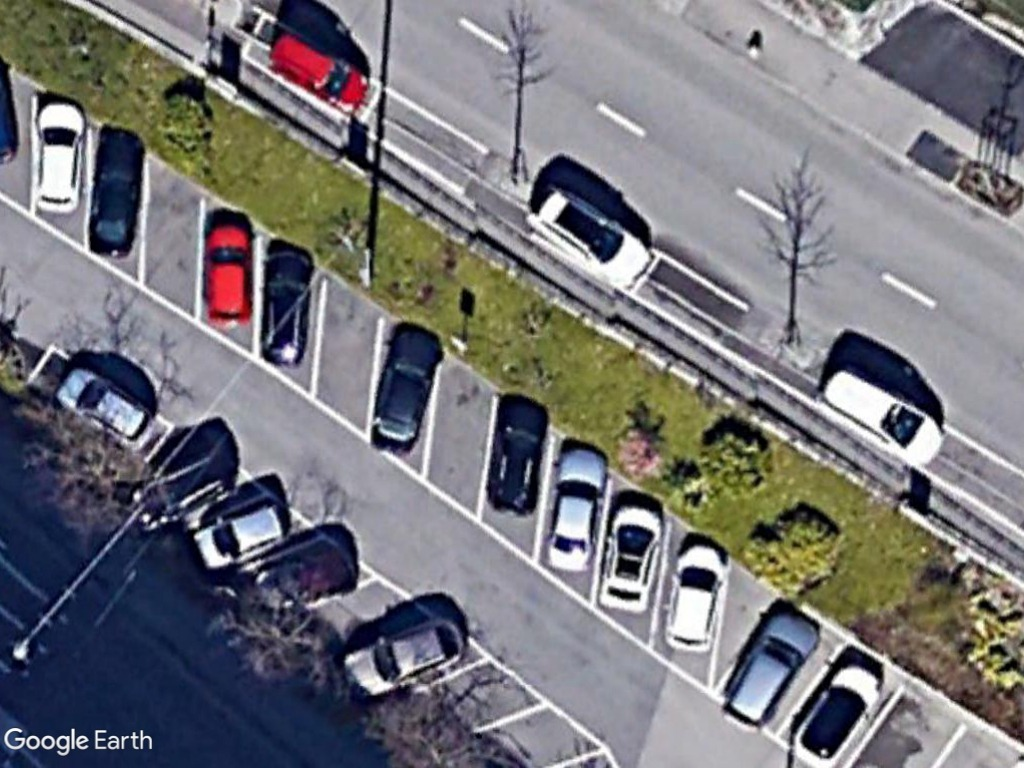car: (519, 176, 658, 298), (819, 359, 948, 472), (712, 612, 823, 736), (333, 618, 469, 701), (789, 663, 892, 768), (365, 321, 445, 453), (53, 360, 160, 453), (265, 26, 374, 114), (538, 443, 607, 579), (83, 121, 148, 259), (191, 497, 297, 579), (659, 540, 731, 659), (594, 504, 668, 617), (489, 391, 553, 521), (256, 239, 314, 373), (26, 95, 87, 220), (205, 211, 258, 331)
